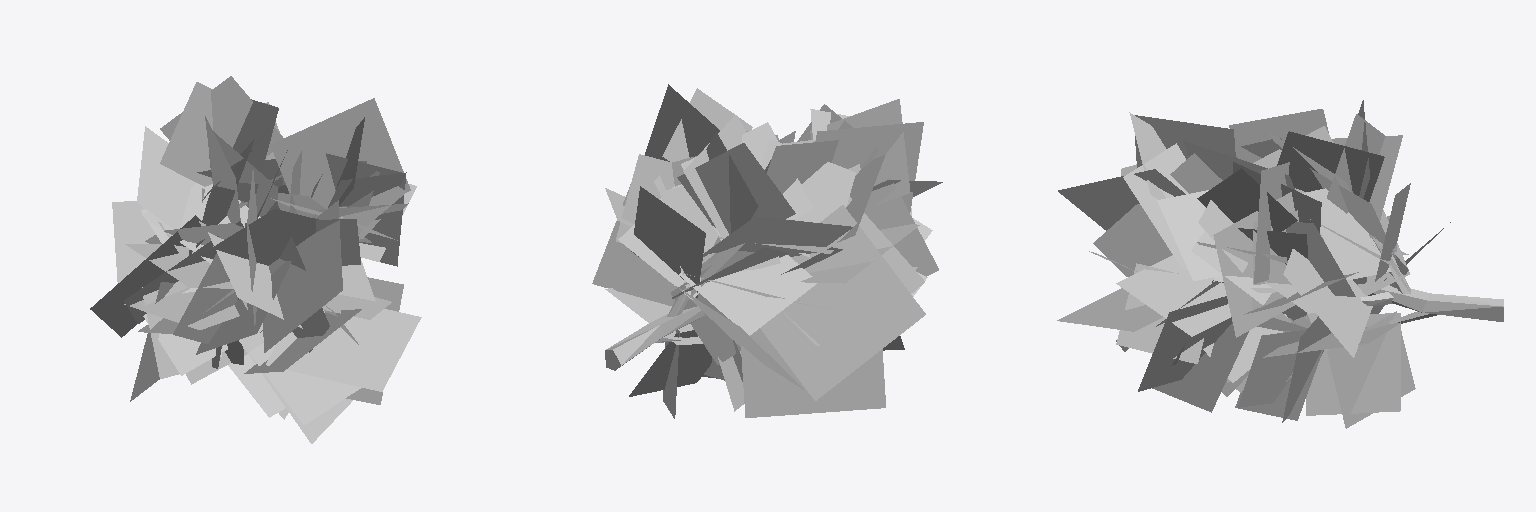
Rendered from balm_LOD1.obj.
3 renders of one model, left to right at view 1: azimuth 30°, elevation 25°; view 2: azimuth 150°, elevation 25°; view 3: azimuth 270°, elevation 25°, orthographic.
Visible parts, largest first — view 1: Model__blend_root; view 2: Model__blend_root; view 3: Model__blend_root.
Part boxes in pixels (x1,y1,x2,y2): Model__blend_root: (90, 76, 421, 443); Model__blend_root: (592, 84, 942, 418); Model__blend_root: (1057, 100, 1503, 428).
Size of the model in its own units: 4.79 by 4.2 by 5.71.